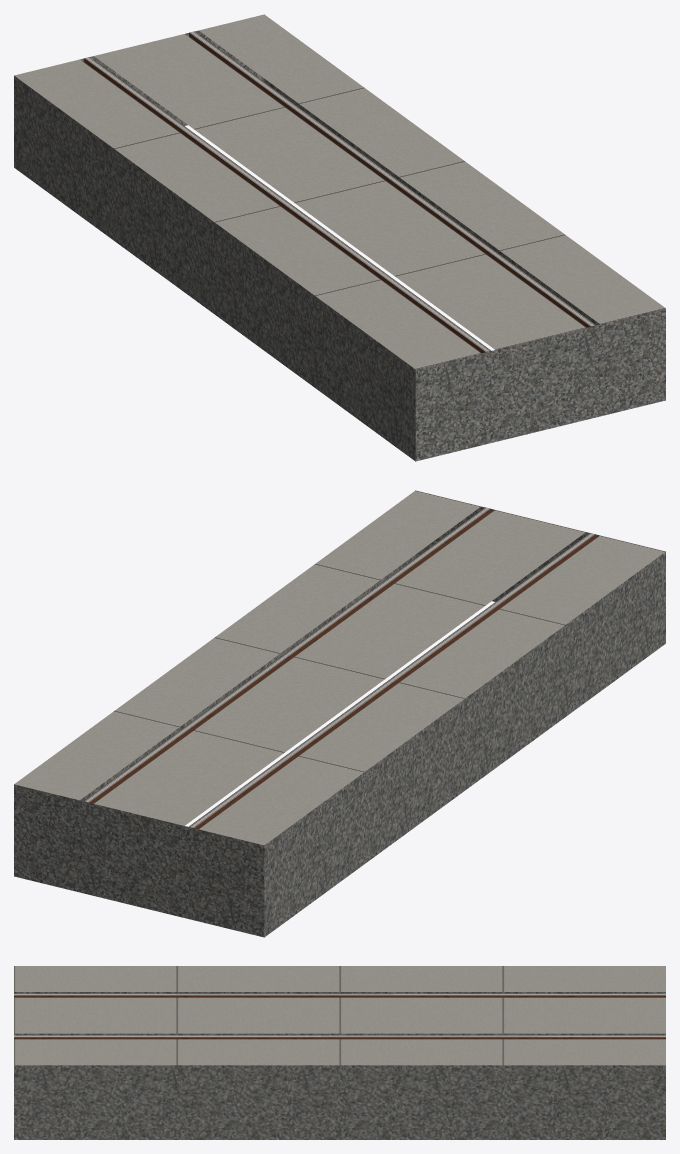
File: rail_xing_panel_10m_v2_quest.glb
3 views of the same model, one above another, from view 1: azimuth 30°, elevation 25°; view 2: azimuth 150°, elevation 25°; view 3: azimuth 270°, elevation 25° (orthographic). The views are drawn at different scales.
Visible parts, largest first — view 1: rail_xing_panel_10m_v2_quest; view 2: rail_xing_panel_10m_v2_quest; view 3: rail_xing_panel_10m_v2_quest.
Boxes of the visible parts, x1,y1,x2,y2 form: rail_xing_panel_10m_v2_quest: (14,14,665,461); rail_xing_panel_10m_v2_quest: (14,490,665,937); rail_xing_panel_10m_v2_quest: (14,966,665,1139).
Size of what is drawn, in the model's own units: 3.6 by 1.27 by 10.
2 materials, 2 textured.
